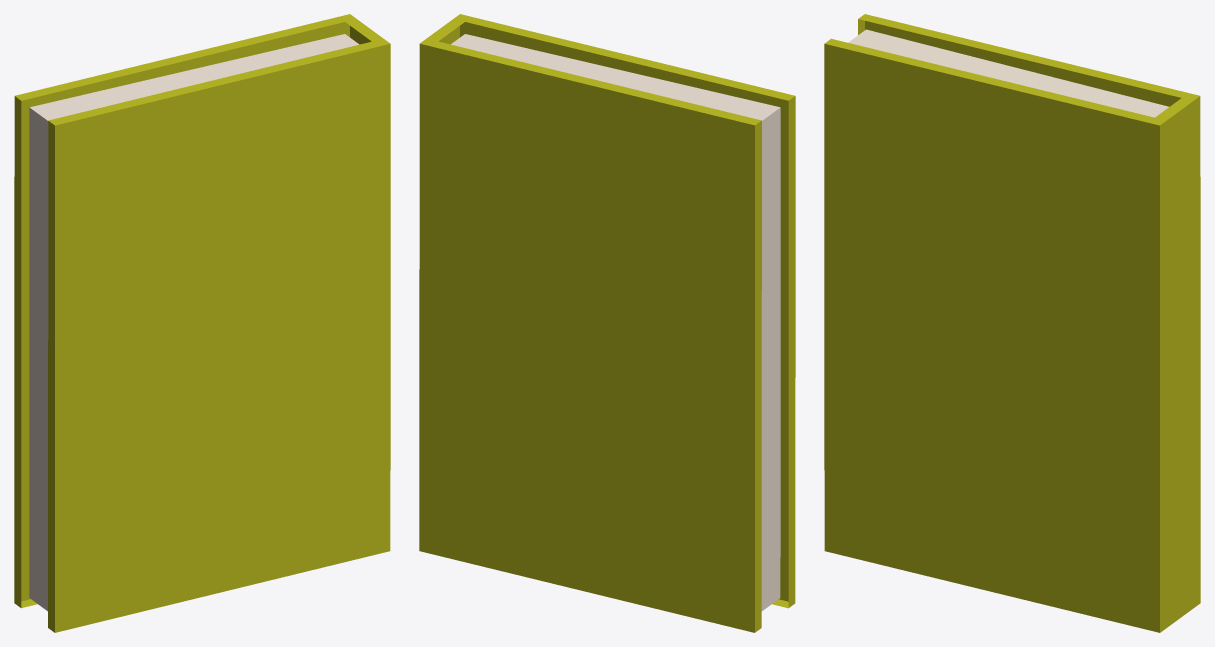
File: Book_2.fbx
The picture shows the model from 3 angles, left to right: view 1: azimuth 30°, elevation 25°; view 2: azimuth 150°, elevation 25°; view 3: azimuth 330°, elevation 25°; orthographic projection.
Visible parts, largest first — view 1: Book_2.003; view 2: Book_2.003; view 3: Book_2.003.
Part boxes in pixels (box(x1,y1,x2,y2)): Book_2.003: box(14, 14, 390, 632); Book_2.003: box(419, 14, 795, 632); Book_2.003: box(824, 14, 1200, 632).
Size of the model in its own units: 0.2089 by 0.3019 by 0.0439.
